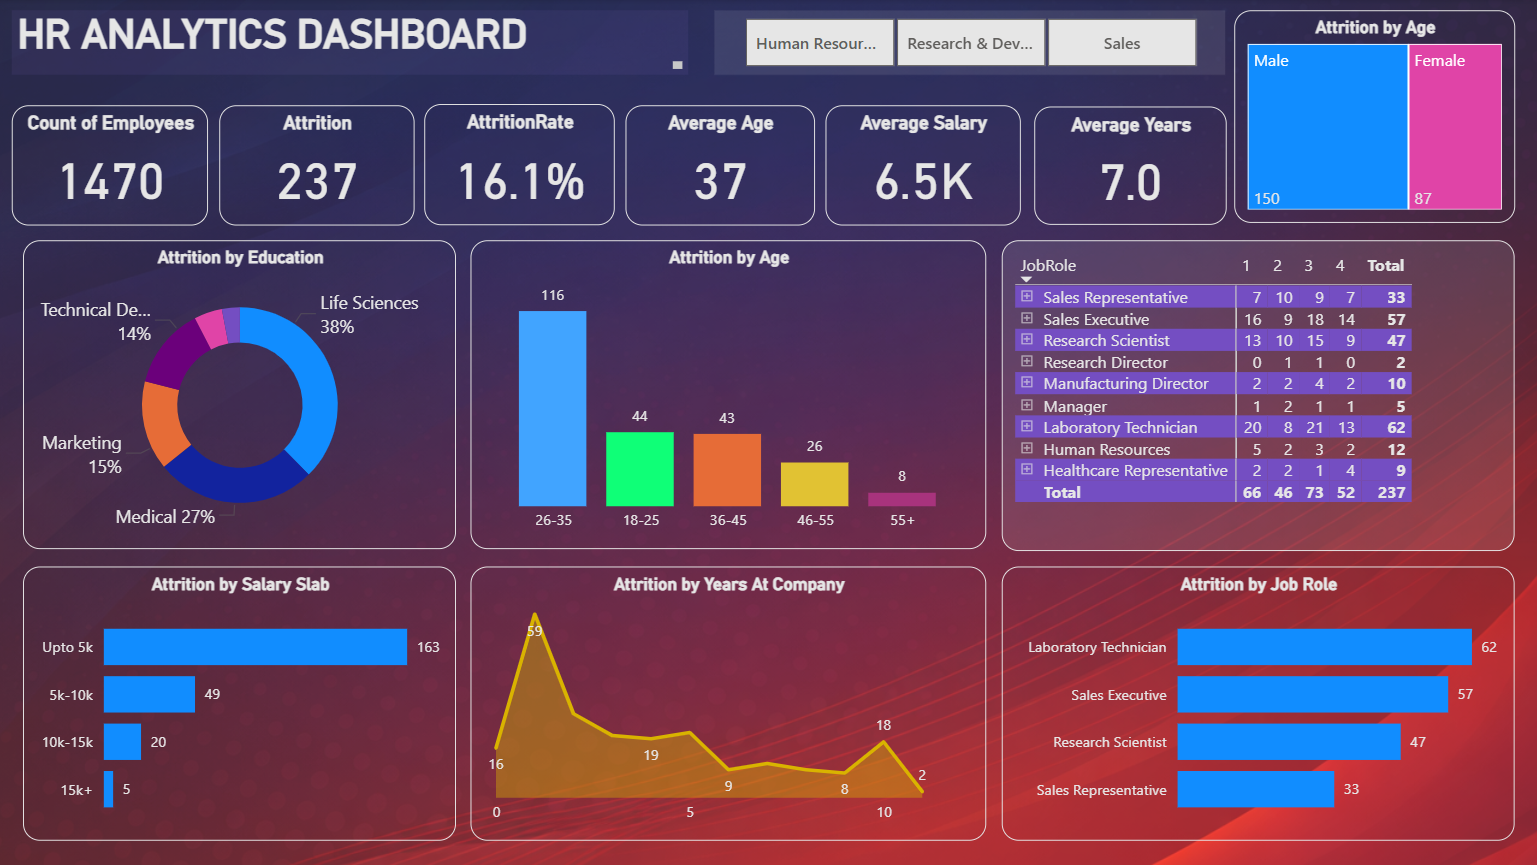

The dashboard page shown, as its layout file describes it:
{"tool":"powerbi","page":{"name":"Page 1","canvas":[1280,720],"ordinal":0},"visuals":[{"type":"card","title":"Count of Employees","fields":{"Values":["CountNonNull(HR_Analytics (1).EmpID)"]},"box":[11,88.1,163.3,99.7],"z":0},{"type":"card","title":"Attrition","fields":{"Values":["Sum(HR_Analytics (1).Attrition Count)"]},"box":[184,88.1,162.1,99.7],"z":1000},{"type":"card","title":"Average Age","fields":{"Values":["Avg(HR_Analytics (1).Age)"]},"box":[521.4,88.1,157.3,99.7],"z":2000},{"type":"card","title":"AttritionRate","fields":{"Values":["HR_Analytics (1).AttritionRate"]},"box":[354.5,86.9,158.5,100.9],"z":3000},{"type":"card","title":"Average Salary","fields":{"Values":["Avg(HR_Analytics (1).MonthlyIncome)"]},"box":[688.3,88.1,162.1,99.7],"z":4000},{"type":"card","title":"Average Years","fields":{"Values":["Avg(HR_Analytics (1).YearsAtCompany)"]},"box":[861.2,89.3,159.7,98.5],"z":5000},{"type":"donutChart","title":"Attrition by Education","fields":{"Category":["HR_Analytics (1).EducationField"],"Y":["Sum(HR_Analytics (1).Attrition Count)"]},"box":[20.4,200.5,360.2,257],"z":6000},{"type":"columnChart","title":"Attrition by Age","fields":{"Category":["HR_Analytics (1).AgeGroup"],"Y":["Sum(HR_Analytics (1).Attrition Count)"]},"box":[392.6,200.5,428.7,257],"z":7000},{"type":"pivotTable","title":"Job Satifaction","fields":{"Rows":["HR_Analytics (1).JobRole","HR_Analytics (1).Department"],"Columns":["HR_Analytics (1).JobSatisfaction"],"Values":["Sum(HR_Analytics (1).Attrition Count)"]},"box":[834.5,200.5,426.3,258.2],"z":8000},{"type":"barChart","title":"Attrition by Salary Slab","fields":{"Category":["HR_Analytics (1).SalarySlab"],"Y":["Sum(HR_Analytics (1).Attrition Count)"]},"box":[20.4,471.9,360.2,228.1],"z":9000},{"type":"barChart","title":"Attrition by Job Role","fields":{"Category":["HR_Analytics (1).JobRole"],"Y":["Sum(HR_Analytics (1).Attrition Count)"]},"box":[834.5,471.9,426.3,228.1],"z":10000},{"type":"areaChart","title":"Attrition by Years At Company","fields":{"Category":["HR_Analytics (1).YearsAtCompany"],"Y":["Sum(HR_Analytics (1).Attrition Count)"]},"box":[392.6,471.9,428.7,228.1],"z":11000},{"type":"treemap","title":"Attrition by Age","fields":{"Group":["HR_Analytics (1).Gender"],"Values":["Sum(HR_Analytics (1).Attrition Count)"]},"box":[1027.6,9.7,233.3,176.7],"z":12000},{"type":"textbox","title":"HR ANALYTICS DASHBOARD","box":[11.6,9.3,562.8,53.5],"z":13000},{"type":"slicer","fields":{"Values":["HR_Analytics (1).Department"]},"box":[595.8,9.3,424.9,53.7],"z":14000}]}

Visuals, with their boxes in screenshot pixels (x1, y1, x2, y2), scaled from the page's 1280x720 canvas onto the 1537x865 screenshot:
"Count of Employees" card: {"left": 13, "top": 106, "right": 209, "bottom": 226}
"Attrition" card: {"left": 221, "top": 106, "right": 416, "bottom": 226}
"Average Age" card: {"left": 626, "top": 106, "right": 815, "bottom": 226}
"AttritionRate" card: {"left": 426, "top": 104, "right": 616, "bottom": 226}
"Average Salary" card: {"left": 826, "top": 106, "right": 1021, "bottom": 226}
"Average Years" card: {"left": 1034, "top": 107, "right": 1226, "bottom": 226}
"Attrition by Education" donutChart: {"left": 24, "top": 241, "right": 457, "bottom": 550}
"Attrition by Age" columnChart: {"left": 471, "top": 241, "right": 986, "bottom": 550}
"Job Satifaction" pivotTable: {"left": 1002, "top": 241, "right": 1514, "bottom": 551}
"Attrition by Salary Slab" barChart: {"left": 24, "top": 567, "right": 457, "bottom": 841}
"Attrition by Job Role" barChart: {"left": 1002, "top": 567, "right": 1514, "bottom": 841}
"Attrition by Years At Company" areaChart: {"left": 471, "top": 567, "right": 986, "bottom": 841}
"Attrition by Age" treemap: {"left": 1234, "top": 12, "right": 1514, "bottom": 224}
"HR ANALYTICS DASHBOARD" textbox: {"left": 14, "top": 11, "right": 690, "bottom": 75}
slicer - HR_Analytics (1).Department: {"left": 715, "top": 11, "right": 1226, "bottom": 76}
